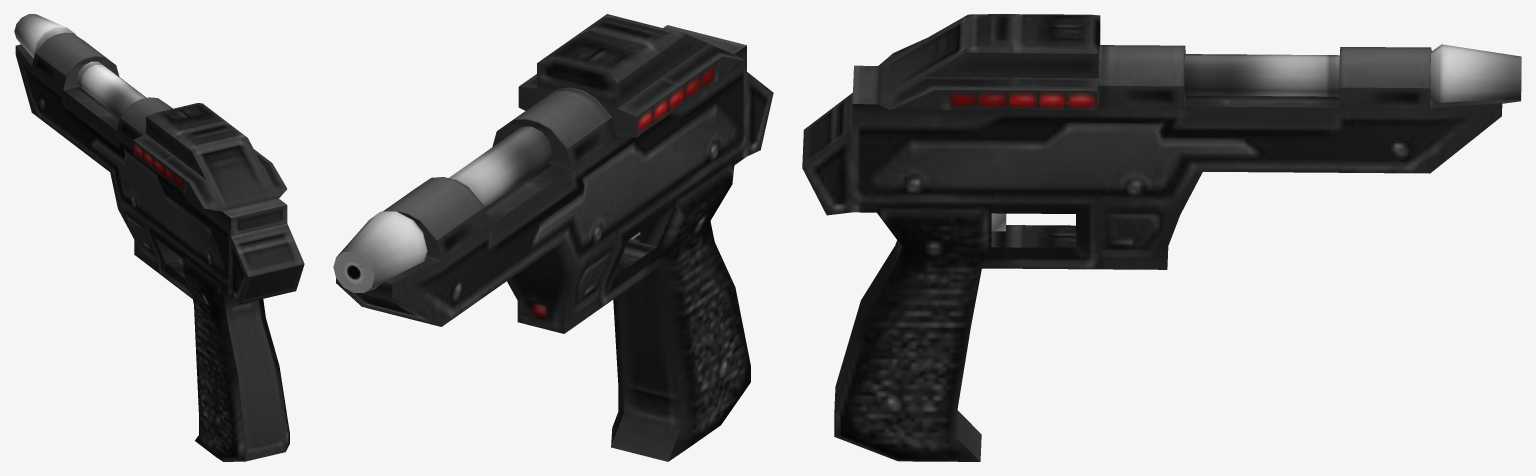
The model's file is lazer.FBX.
The picture shows the model from 3 angles, left to right: view 1: azimuth 30°, elevation 25°; view 2: azimuth 150°, elevation 25°; view 3: azimuth 270°, elevation 25°; orthographic projection. The views are drawn at different scales.
Visible parts, largest first — view 1: main; view 2: main; view 3: main.
Part boxes in pixels (<box>): main: <box>14,14,304,461</box>; main: <box>333,14,773,461</box>; main: <box>802,14,1521,461</box>.
Size of the model in its own units: 1.49 by 5.03 by 7.79.
Materials: 1 (1 with a texture image).
